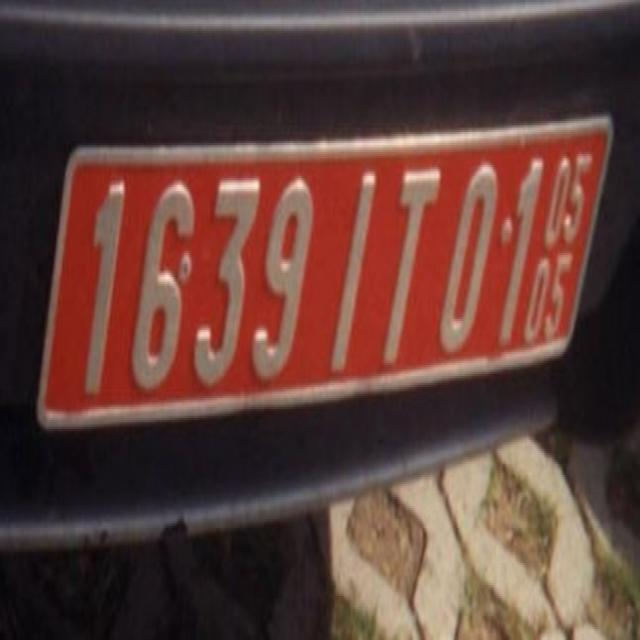licenseplate: (40, 120, 616, 423)
